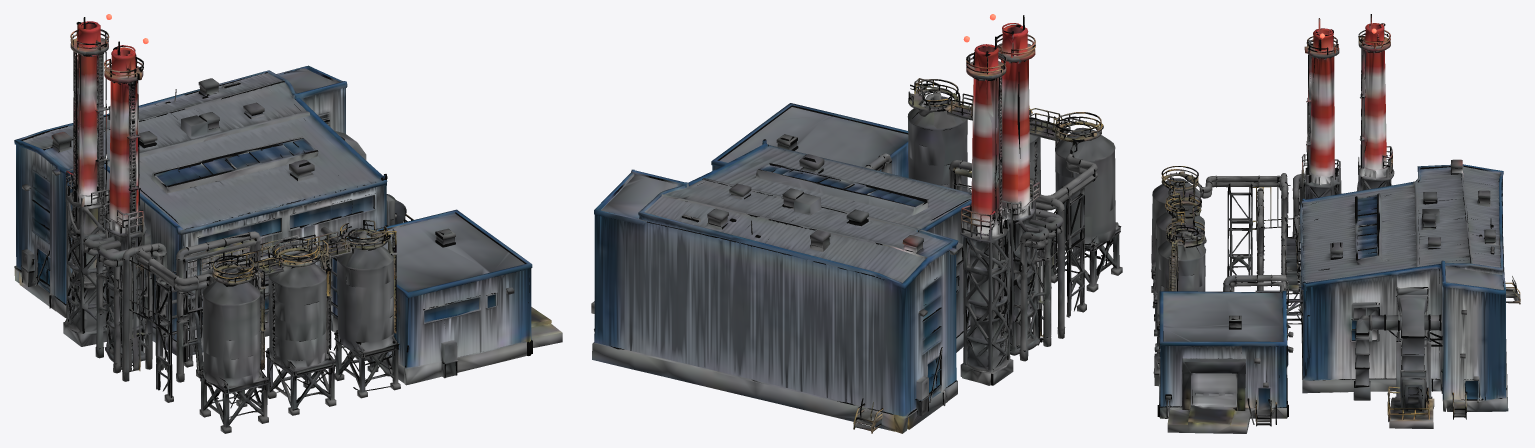
Rendered from factory.glb.
3 renders of one model, left to right at view 1: azimuth 30°, elevation 25°; view 2: azimuth 150°, elevation 25°; view 3: azimuth 270°, elevation 25°, orthographic. The views are drawn at different scales.
Parts seen in each view (by area): view 1: Body; view 2: Body; view 3: Body.
Part boxes in pixels (<box>): Body: <box>14,17,562,433</box>; Body: <box>591,15,1122,433</box>; Body: <box>1151,14,1520,433</box>.
Size of the model in its own units: 64.61 by 52 by 63.95.
2 materials, 1 textured.
